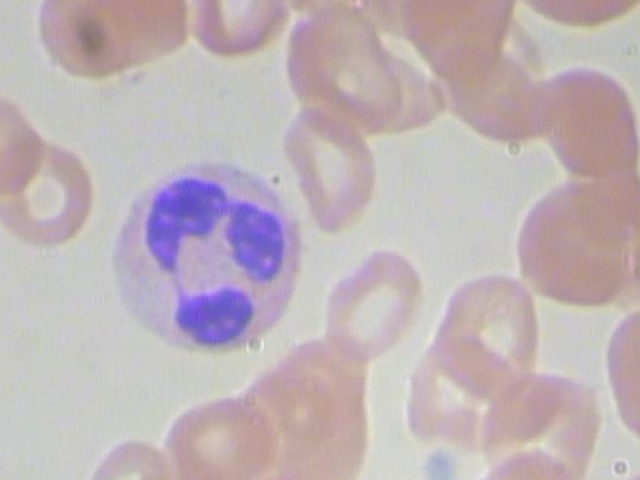Platelets: (418, 441, 466, 480)
RBC: (510, 180, 640, 310), (477, 367, 607, 480), (279, 98, 386, 234), (535, 59, 640, 190), (317, 242, 428, 360), (402, 335, 513, 449), (437, 268, 540, 386), (432, 43, 543, 151), (159, 379, 275, 480), (0, 135, 96, 253), (39, 0, 138, 86), (181, 0, 292, 58), (69, 428, 178, 480), (601, 303, 640, 446), (506, 0, 640, 37)
WBC: (106, 161, 317, 354)
